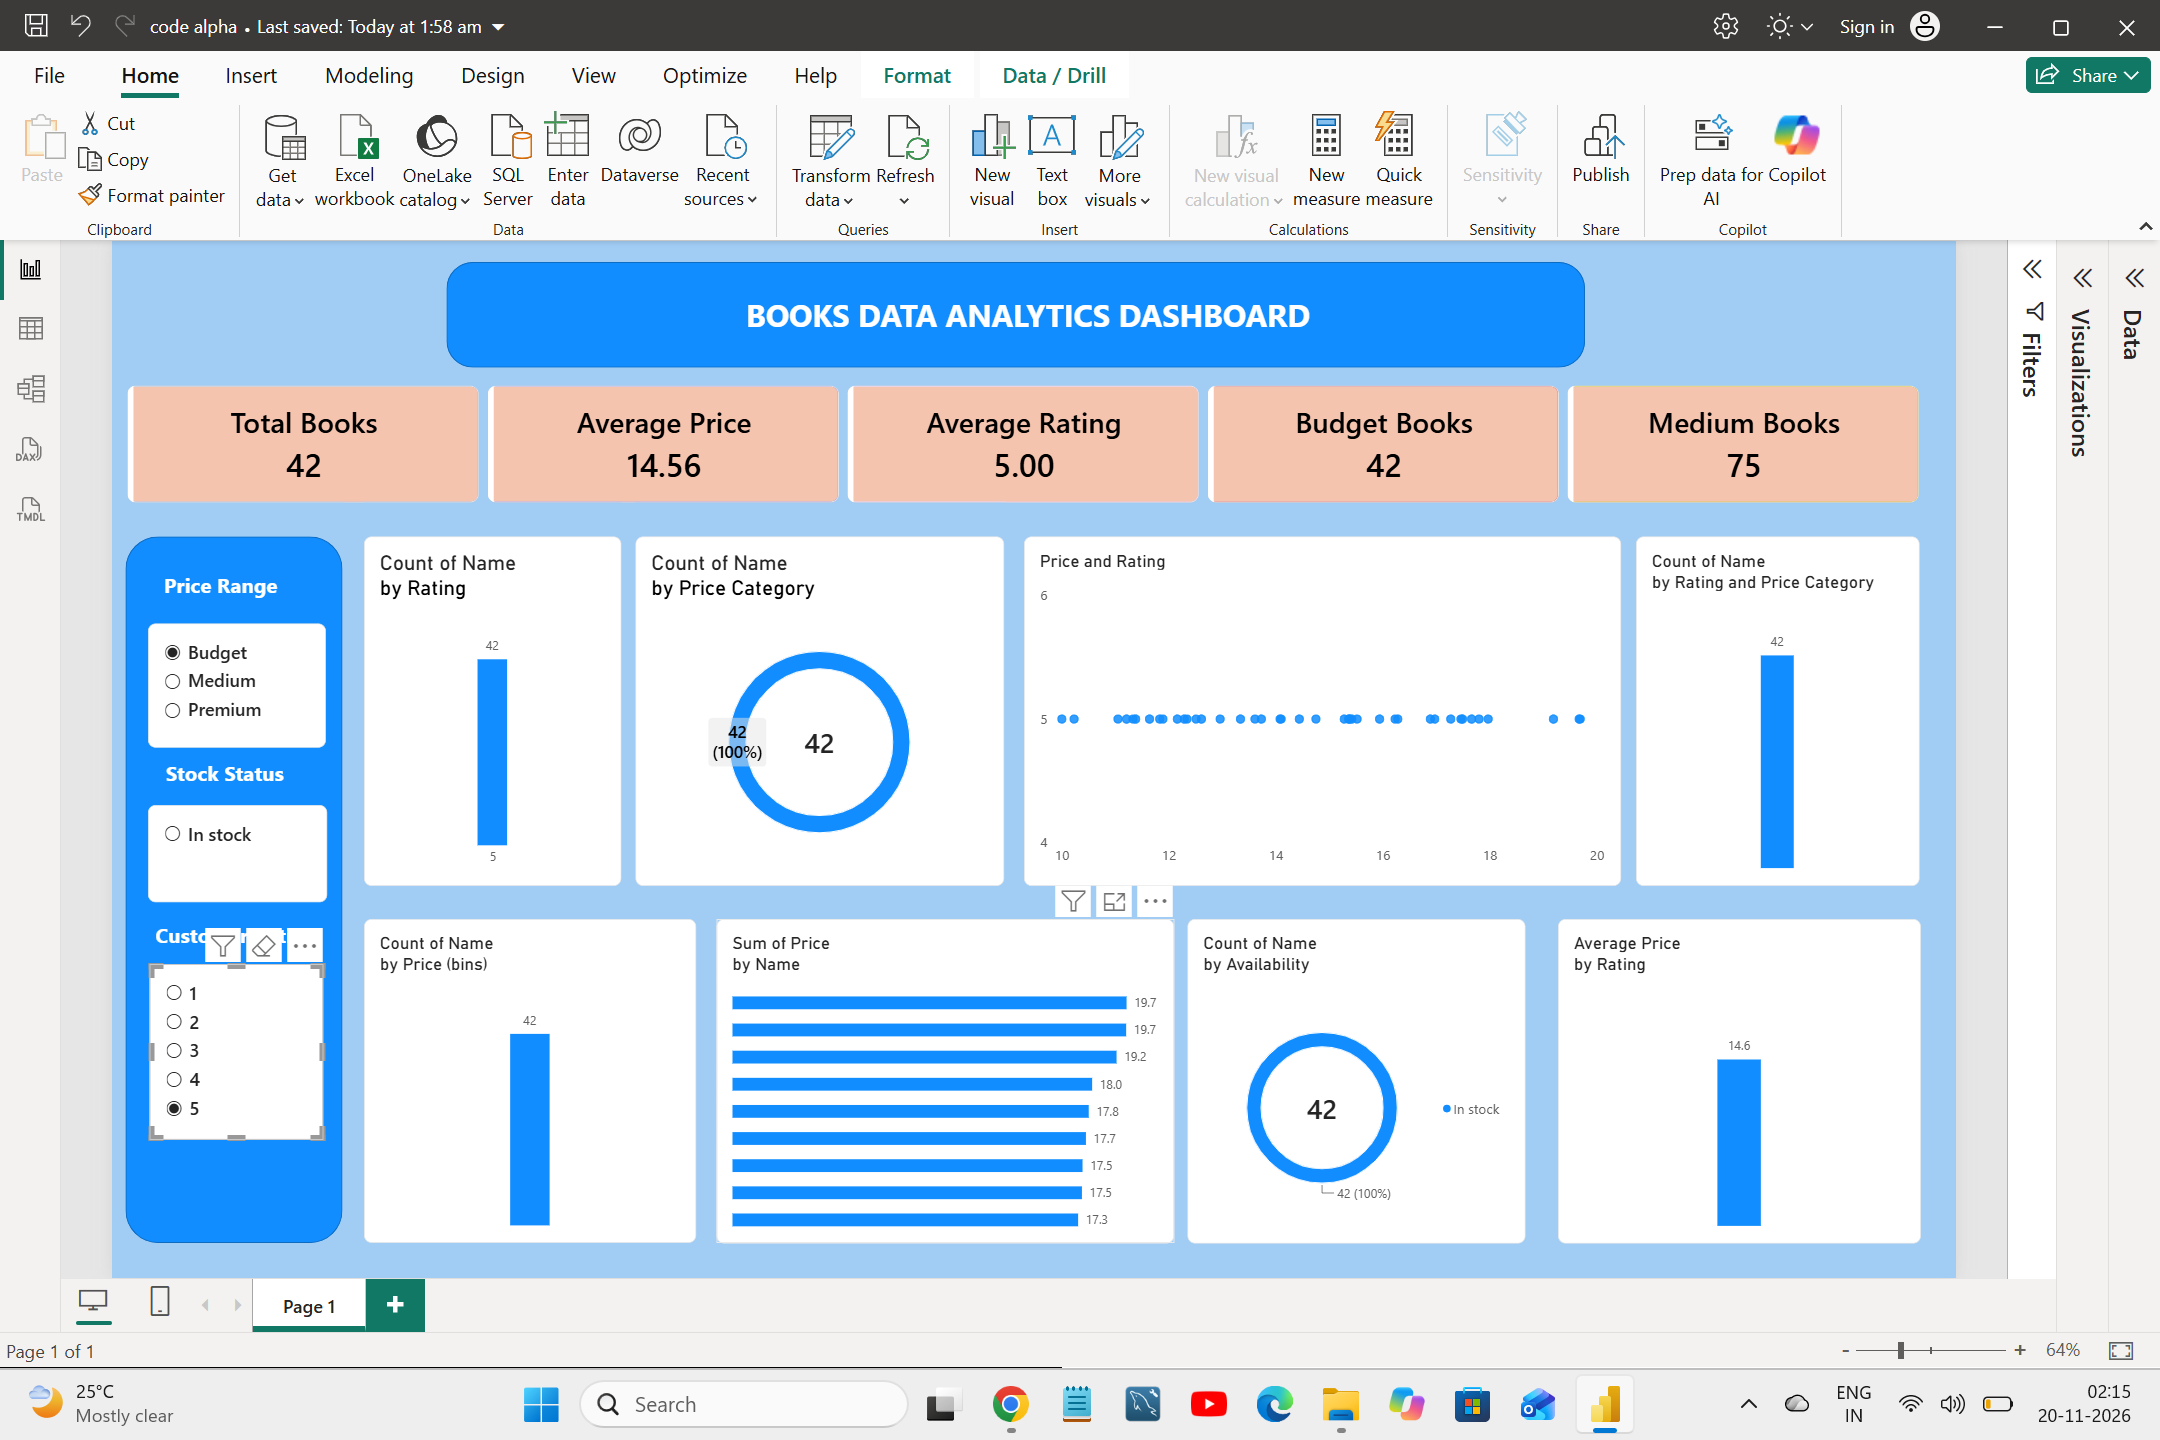

This screenshot's page, from the dashboard's own definition file:
{"tool":"powerbi","page":{"name":"Page 1","canvas":[1920,1080],"ordinal":0},"visuals":[{"type":"donutChart","fields":{"Category":["Books.Price Category"],"Y":["CountNonNull(Books.Name)"]},"box":[546,308,383.8,363.8],"z":0},{"type":"cardVisual","fields":{"Data":["Books.Total Books","Books.Average_price","Books.Average rating","Books.Budget Books","Books.Medium Books"]},"box":[16,150,1867.3,123.1],"z":1000},{"type":"clusteredColumnChart","fields":{"Category":["Books.Rating"],"Y":["CountNonNull(Books.Name)"]},"box":[262,308,268,364],"z":2000},{"type":"clusteredBarChart","fields":{"Category":["Books.Name"],"Y":["Sum(Books.Price)"]},"box":[629.4,705.9,476.5,338.2],"z":3000},{"type":"clusteredColumnChart","fields":{"Category":["Books.Price (bins)"],"Y":["CountNonNull(Books.Name)"]},"box":[262,706,346.2,337.5],"z":4000},{"type":"scatterChart","fields":{"X":["Books.Price"],"Y":["Books.Rating"]},"box":[950,308,622,364],"z":5000},{"type":"donutChart","fields":{"Category":["Books.Availability"],"Y":["CountNonNull(Books.Name)"]},"box":[1120,706,352,338],"z":6000},{"type":"clusteredColumnChart","fields":{"Category":["Books.Rating"],"Y":["Books.Average Price"]},"box":[1506,706,378,338],"z":7000},{"type":"columnChart","fields":{"Category":["Books.Rating"],"Series":["Books.Price Category"],"Y":["CountNonNull(Books.Name)"]},"box":[1588,308,295,363.8],"z":8000},{"type":"shape","box":[14.7,307.4,226,736],"z":9000},{"type":"listSlicer","fields":{"Values":["Books.Rating"]},"box":[39.7,752.9,180.9,182.4],"z":10000},{"type":"listSlicer","fields":{"Values":["Books.Price Category"]},"box":[38.2,398.5,185.3,129.4],"z":11000},{"type":"shape","box":[348,22,1186,110],"z":12000},{"type":"listSlicer","fields":{"Values":["Books.Availability"]},"box":[38.2,588.2,186.8,101.5],"z":13000},{"type":"textbox","box":[630,54,640,48],"z":14000},{"type":"textbox","box":[38.2,539.7,160.3,66.2],"z":14001},{"type":"textbox","box":[39.7,325,148.5,63.2],"z":14002},{"type":"textbox","box":[39.7,689.7,180.9,63.2],"z":14003}]}

Visuals, with their boxes on the page's 1920x1080 design canvas (x1, y1, x2, y2). These are canvas units, not pixel positions in the 2160x1440 screenshot, which may show the page scaled, cropped or inside an application window:
donutChart - Books.Price Category x CountNonNull(Books.Name): <bbox>546, 308, 930, 672</bbox>
cardVisual - Books.Total Books x Books.Average_price: <bbox>16, 150, 1883, 273</bbox>
clusteredColumnChart - Books.Rating x CountNonNull(Books.Name): <bbox>262, 308, 530, 672</bbox>
clusteredBarChart - Books.Name x Sum(Books.Price): <bbox>629, 706, 1106, 1044</bbox>
clusteredColumnChart - Books.Price (bins) x CountNonNull(Books.Name): <bbox>262, 706, 608, 1044</bbox>
scatterChart - Books.Price x Books.Rating: <bbox>950, 308, 1572, 672</bbox>
donutChart - Books.Availability x CountNonNull(Books.Name): <bbox>1120, 706, 1472, 1044</bbox>
clusteredColumnChart - Books.Rating x Books.Average Price: <bbox>1506, 706, 1884, 1044</bbox>
columnChart - Books.Rating x Books.Price Category: <bbox>1588, 308, 1883, 672</bbox>
shape: <bbox>15, 307, 241, 1043</bbox>
listSlicer - Books.Rating: <bbox>40, 753, 221, 935</bbox>
listSlicer - Books.Price Category: <bbox>38, 398, 224, 528</bbox>
shape: <bbox>348, 22, 1534, 132</bbox>
listSlicer - Books.Availability: <bbox>38, 588, 225, 690</bbox>
textbox: <bbox>630, 54, 1270, 102</bbox>
textbox: <bbox>38, 540, 198, 606</bbox>
textbox: <bbox>40, 325, 188, 388</bbox>
textbox: <bbox>40, 690, 221, 753</bbox>
